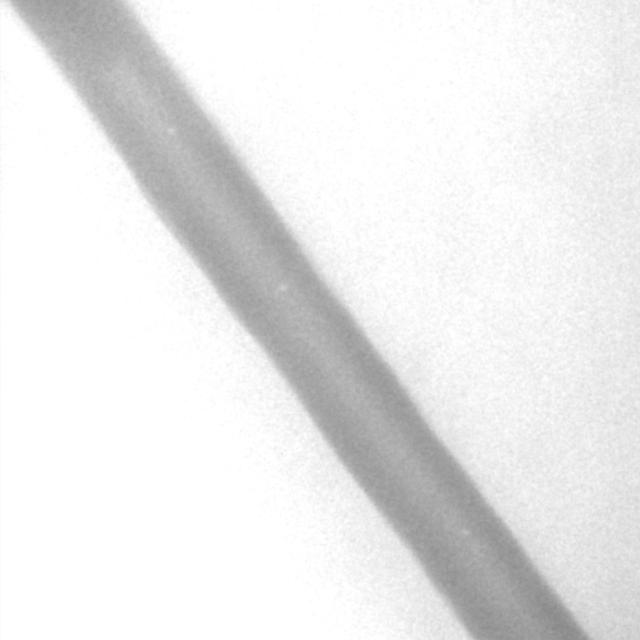air-hole: (168, 124, 175, 140), (281, 284, 290, 290)
